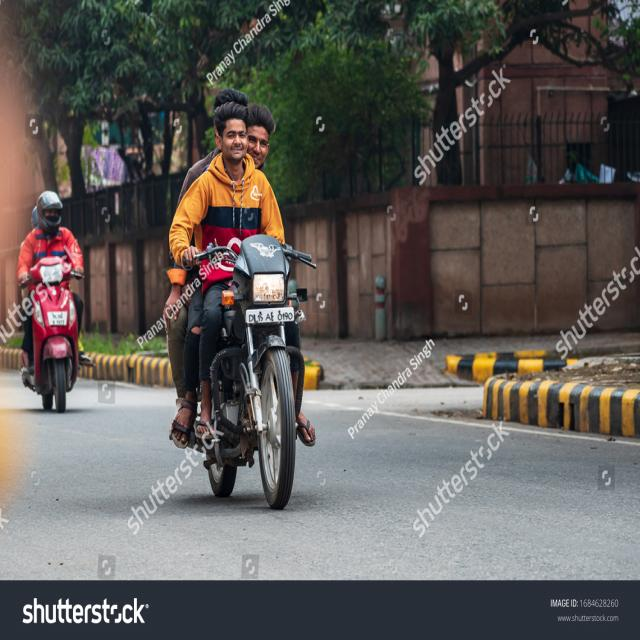Not Wearing Helmet: (210, 70, 252, 195)
Triple Riding: (176, 22, 300, 493)
